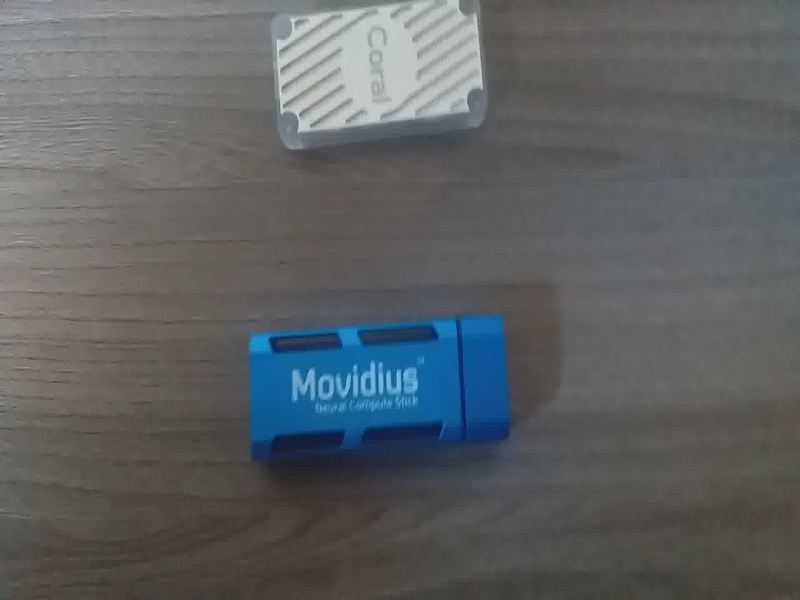coral: (260, 1, 495, 161)
movidius: (239, 308, 526, 454)
